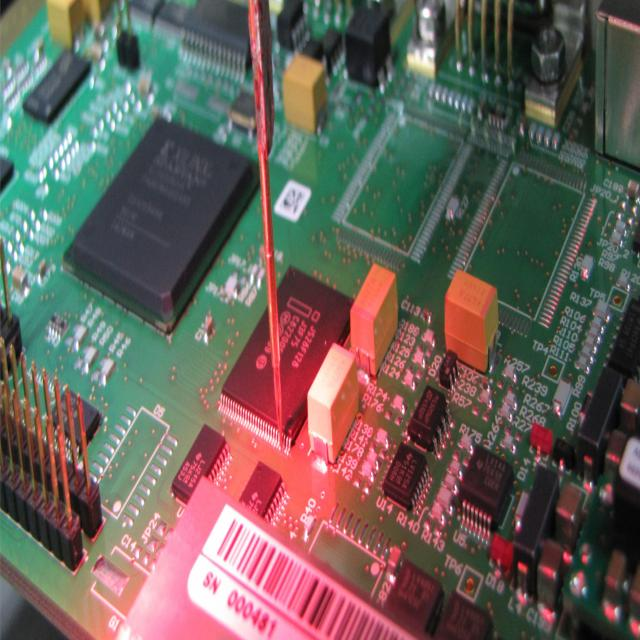pcb: (1, 1, 638, 636), (187, 496, 415, 638), (218, 263, 354, 450), (0, 341, 103, 574), (593, 2, 639, 170), (306, 340, 358, 464), (349, 260, 398, 377), (444, 268, 498, 373), (576, 363, 624, 479), (456, 442, 514, 526), (171, 422, 227, 507), (344, 2, 391, 86), (282, 52, 328, 135), (407, 382, 448, 452), (530, 24, 566, 84), (416, 0, 446, 47)
